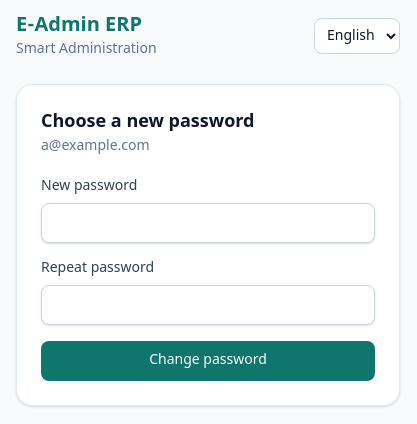
Test: password reset › resets with the token and email from the link
Type "new-pass-22" into the password field labelled "New password" at (208, 223), box 41,203 -> 375,243
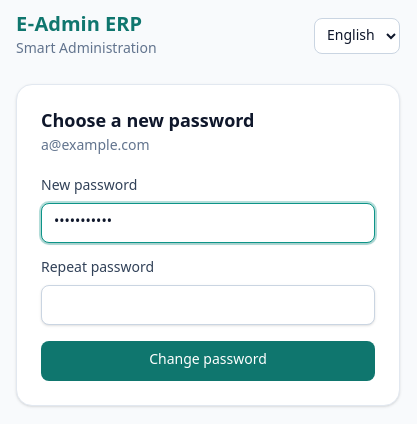
Type "new-pass-22" into the password field labelled "Repeat password" at (208, 305), box 41,285 -> 375,325
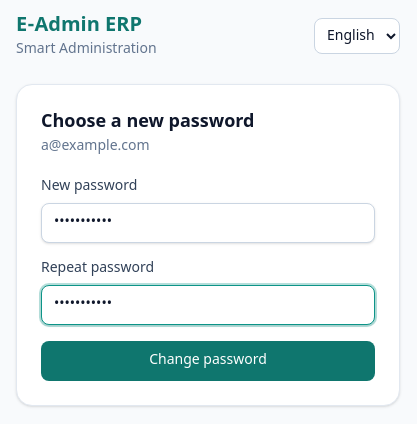
Click the button "Change password" at (208, 361), box 41,341 -> 375,381
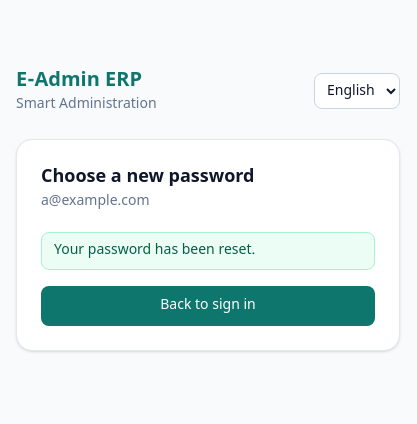
Now the message reads "Your password has been reset.", box 54,241 -> 255,260
